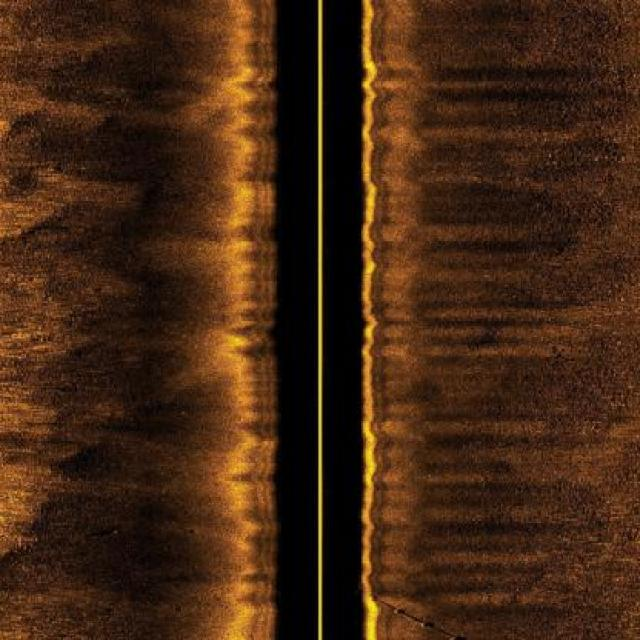other: (368, 597, 423, 625)
